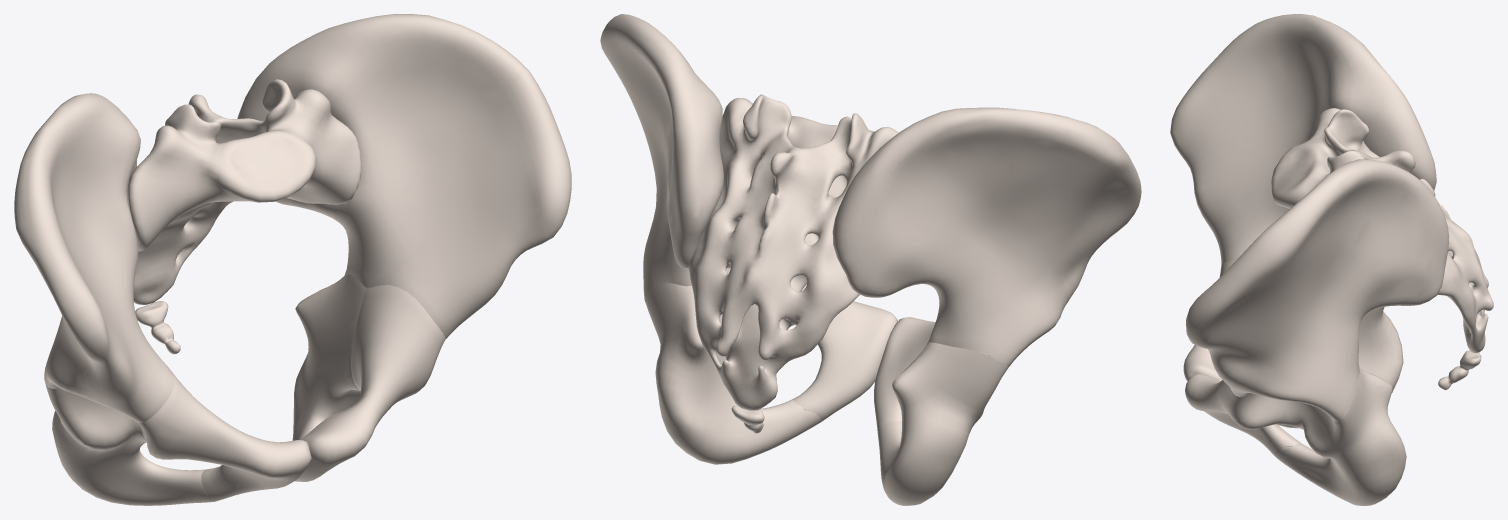
File: pelvis.glb
3 renders of one model, left to right at view 1: azimuth 30°, elevation 25°; view 2: azimuth 150°, elevation 25°; view 3: azimuth 270°, elevation 25°, orthographic. The views are drawn at different scales.
Parts seen in each view (by area): view 1: VH_M_sacrum; view 2: VH_M_sacrum; view 3: VH_M_sacrum.
Boxes of the visible parts, <box> form: VH_M_sacrum: <box>14,14,571,505</box>; VH_M_sacrum: <box>600,14,1141,505</box>; VH_M_sacrum: <box>1170,14,1493,505</box>.
Bounding box in the file's own units: 0.2835 × 0.2185 × 0.1728.
